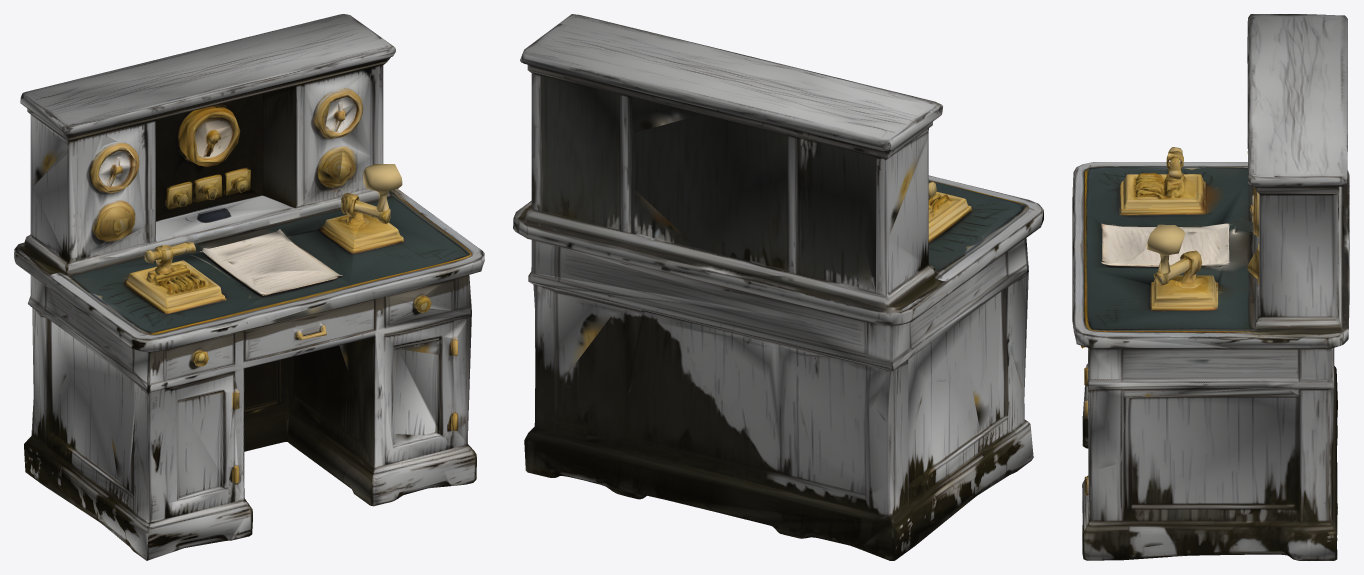
The model's file is lhi_radio_desk.glb.
3 views of the same model, side by side, from view 1: azimuth 30°, elevation 25°; view 2: azimuth 150°, elevation 25°; view 3: azimuth 270°, elevation 25° (orthographic). The views are drawn at different scales.
Visible parts, largest first — view 1: material; view 2: material; view 3: material.
Part boxes in pixels (box(x1,y1,x2,y2)): material: box(14, 14, 484, 560); material: box(513, 14, 1043, 560); material: box(1072, 14, 1349, 560).
Bounding box in the file's own units: 0.7961 × 0.8088 × 0.5298.
Materials: 1 (1 with a texture image).
